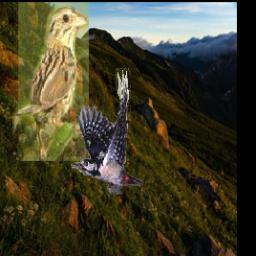Sparrow: (12, 2, 89, 161)
Woodpecker: (69, 69, 143, 195)
